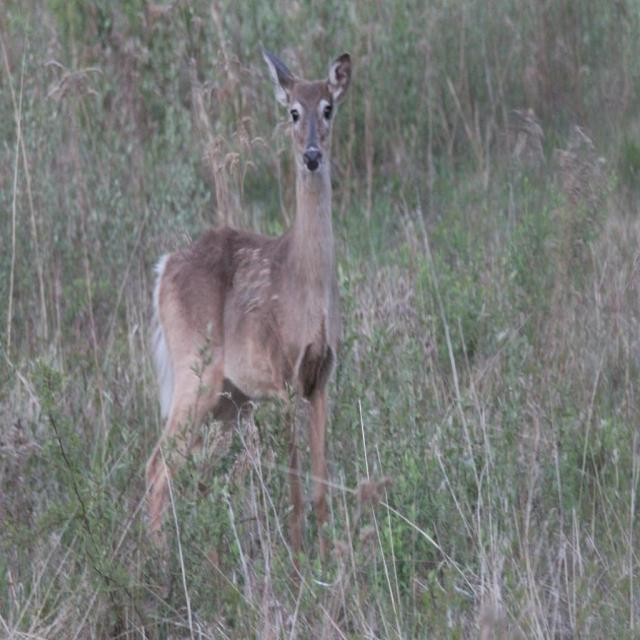Deer: (145, 37, 353, 583)
